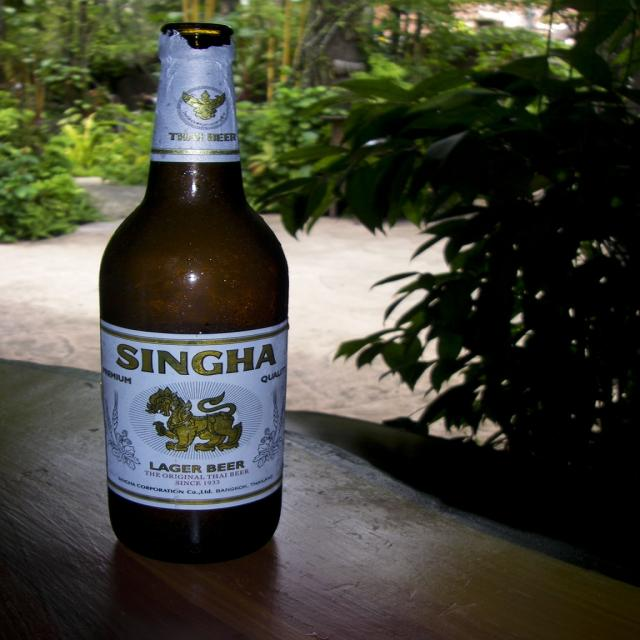singha: (100, 326, 287, 508)
